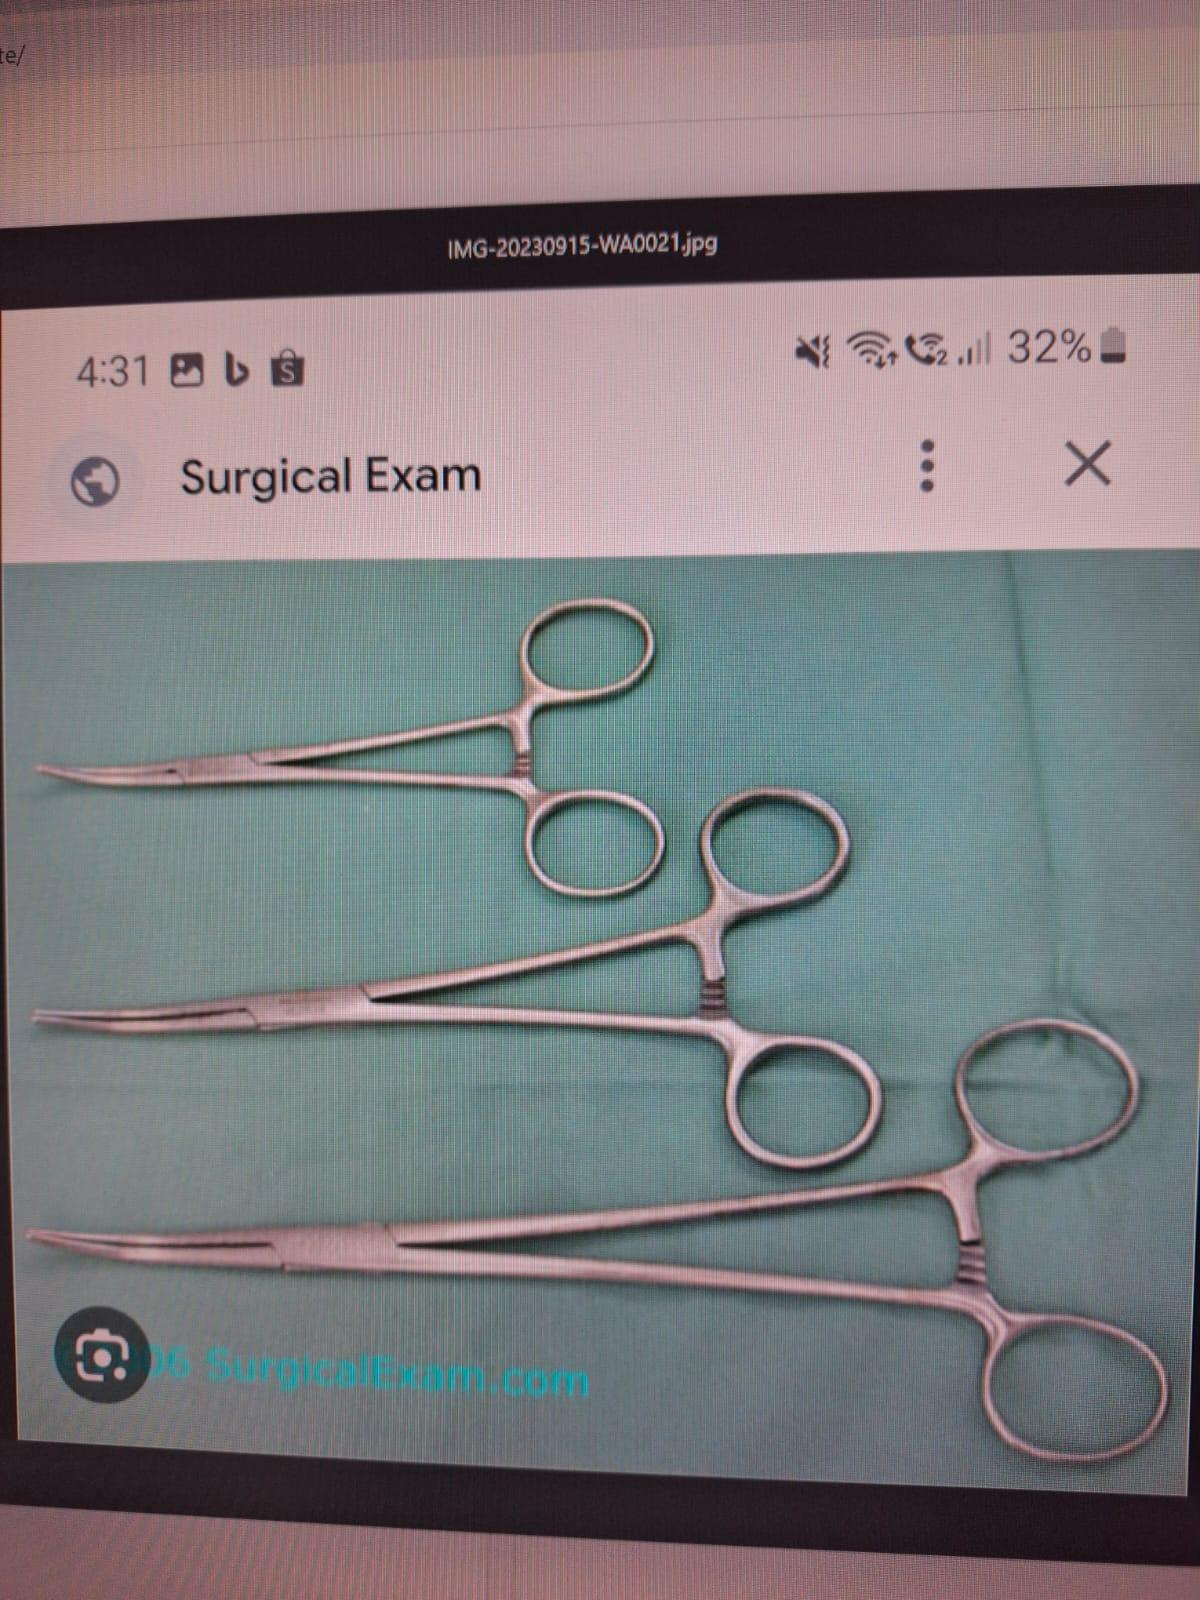Artery Forceps: (20, 1023, 1192, 1468), (13, 765, 915, 1207), (20, 580, 671, 915)
